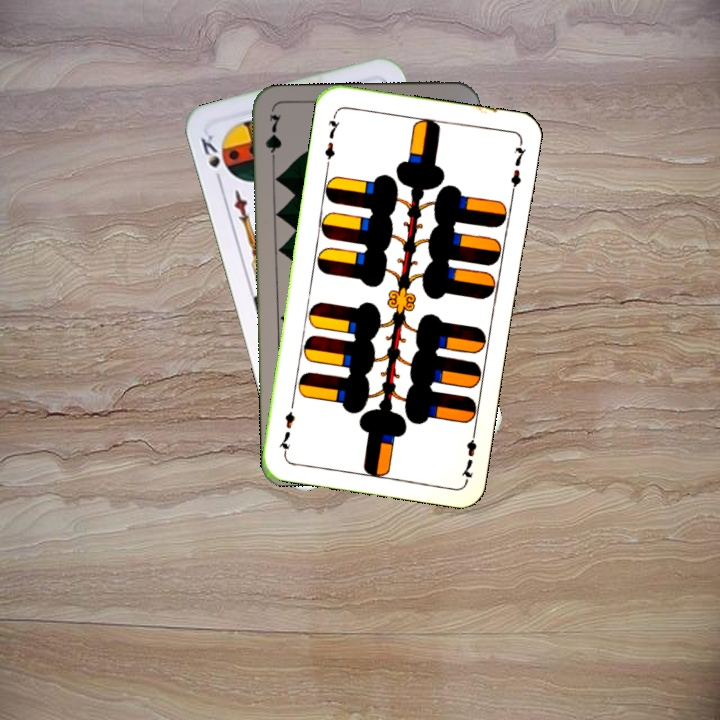E7: (457, 424, 480, 483), (321, 109, 343, 168)
G7: (261, 110, 285, 169)
SK: (196, 130, 225, 187)
